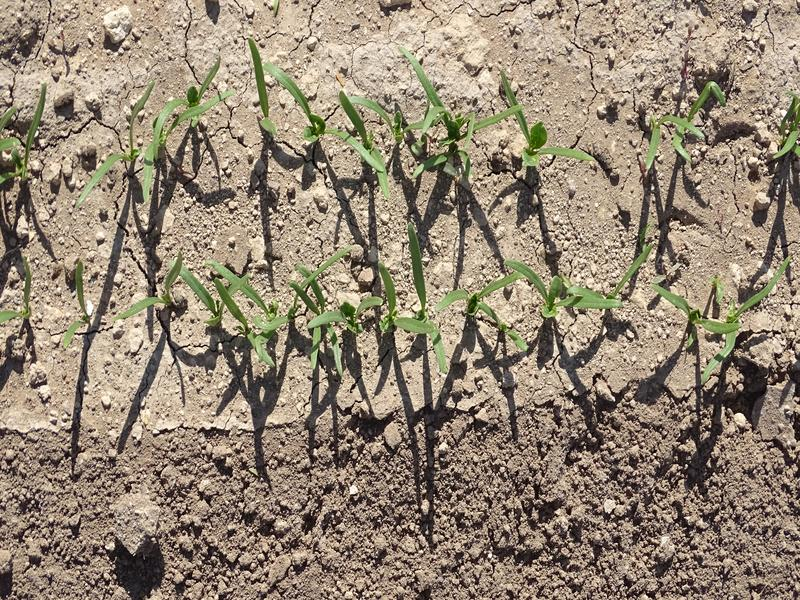Espinaca: (234, 41, 592, 177), (398, 237, 657, 363), (126, 244, 357, 365), (83, 57, 233, 201), (654, 258, 797, 381), (640, 80, 712, 170), (1, 86, 51, 179), (62, 265, 90, 345), (776, 89, 800, 156)
